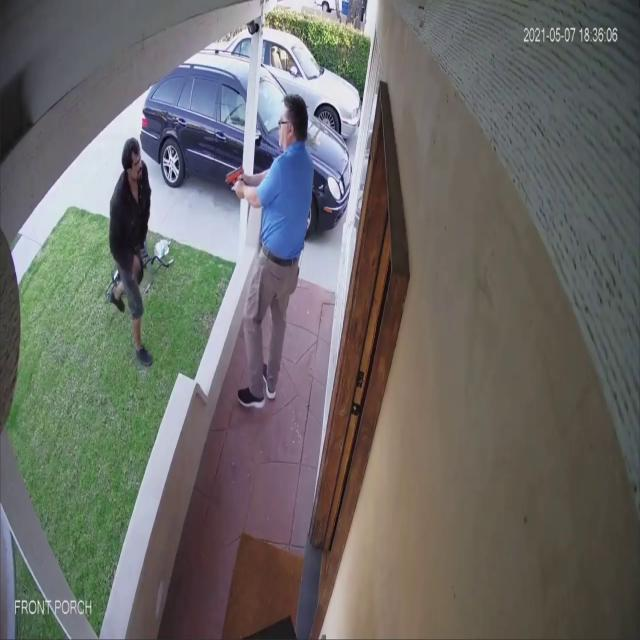gun: (224, 168, 250, 200)
